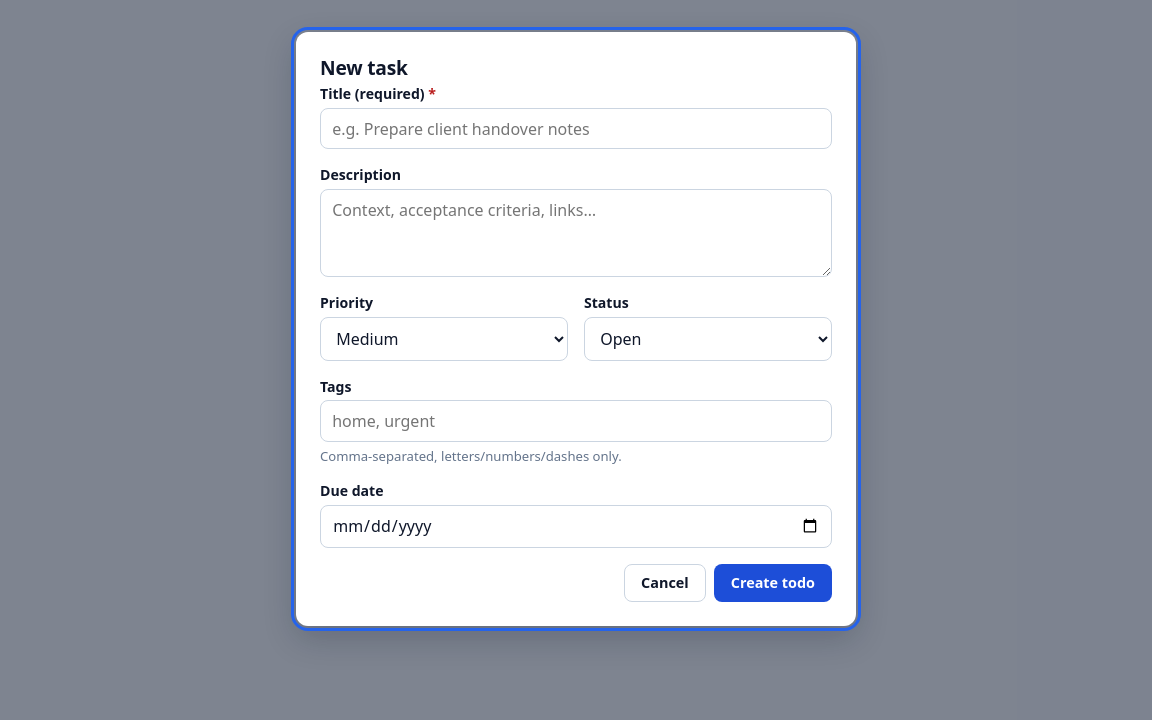
Scenario: TaskModal › shows a validation error and does not submit with an empty title
Click the button "Create todo" at coordinates (773, 583), box [714,564,832,602]
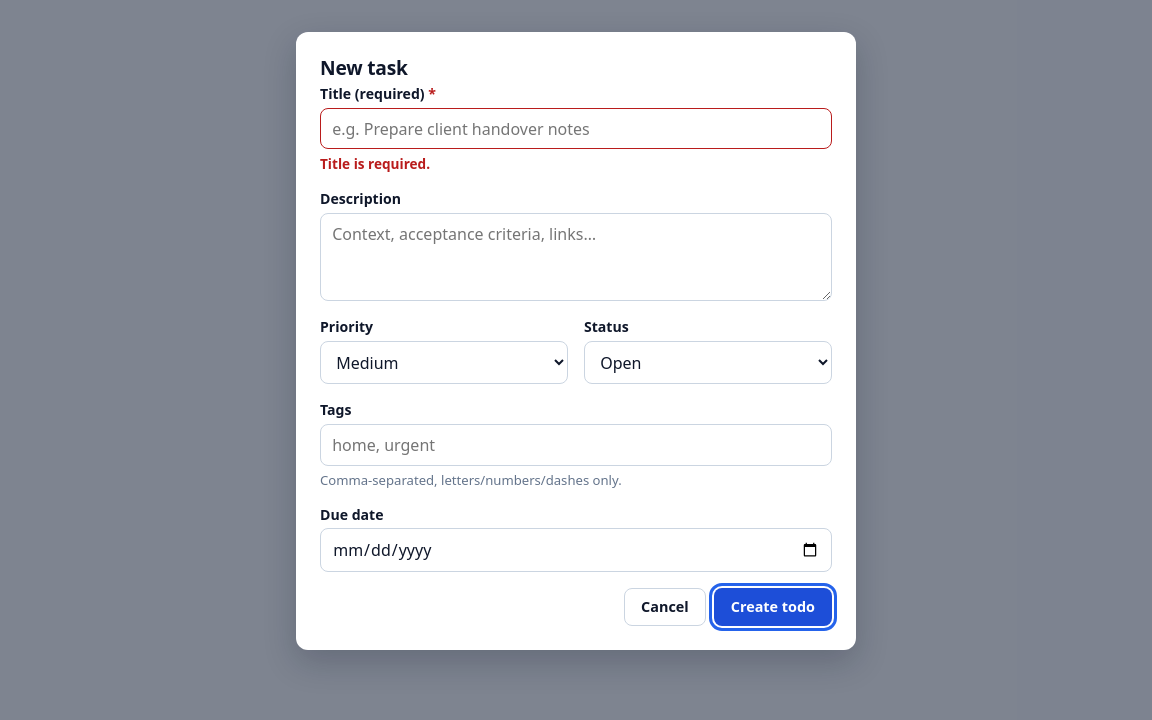
Expected: the text "Title is required." is shown, [320,154,430,173]
